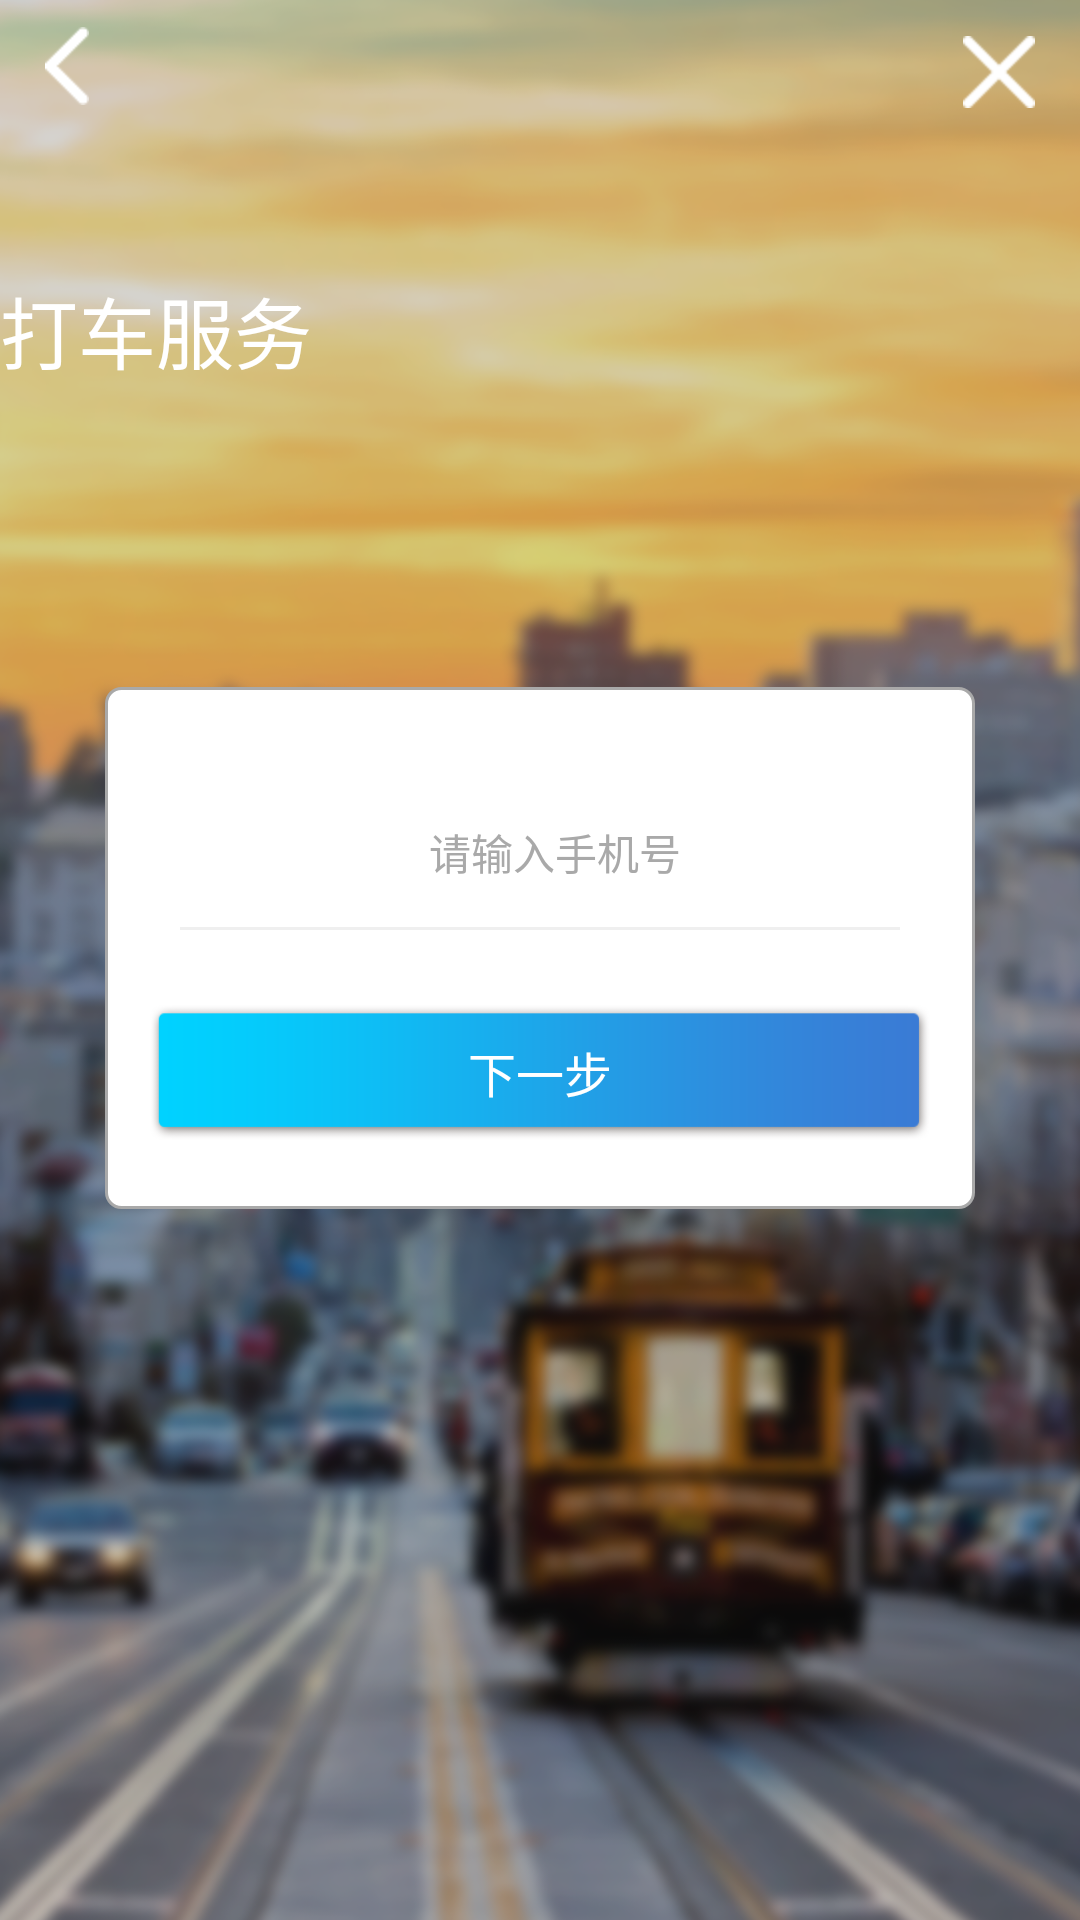

Locate icon controls on the screen. Image size 1080px×1920px, boxes as (x1, y1, x2, y2).
back: (45, 27, 89, 105)
close: (963, 36, 1035, 108)
